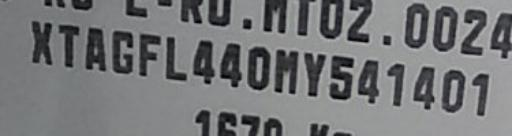letter: (190, 35, 218, 87), (273, 47, 301, 97), (300, 48, 328, 98), (328, 52, 356, 102), (410, 62, 438, 111), (244, 43, 272, 91), (355, 55, 383, 103), (28, 17, 54, 66), (164, 33, 190, 82), (136, 30, 162, 78), (110, 25, 134, 75), (440, 68, 466, 114), (82, 23, 106, 72), (56, 21, 80, 69), (218, 40, 242, 88), (468, 69, 492, 116), (384, 61, 406, 107)
